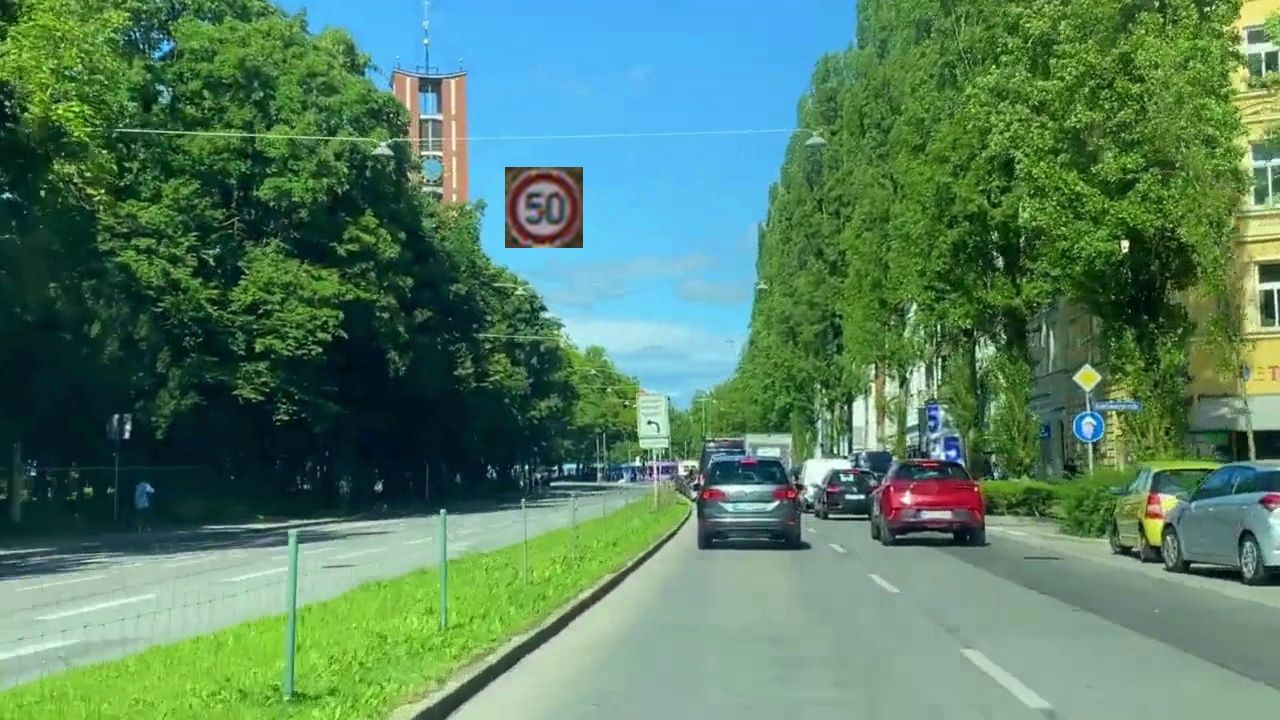Speed 50: (505, 167, 583, 248)
